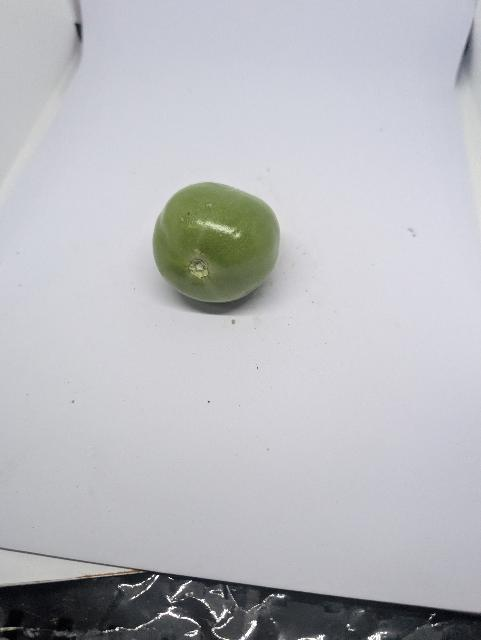green: (151, 179, 283, 305)
